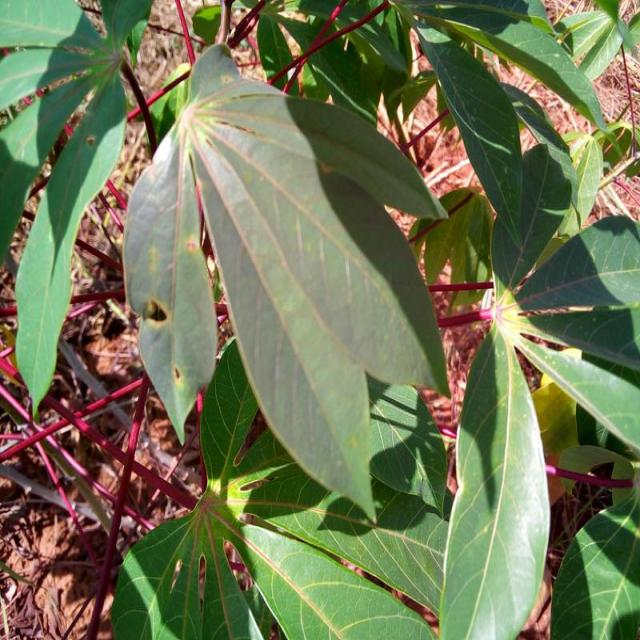cassava leaf: (122, 40, 451, 522), (437, 319, 550, 638)
